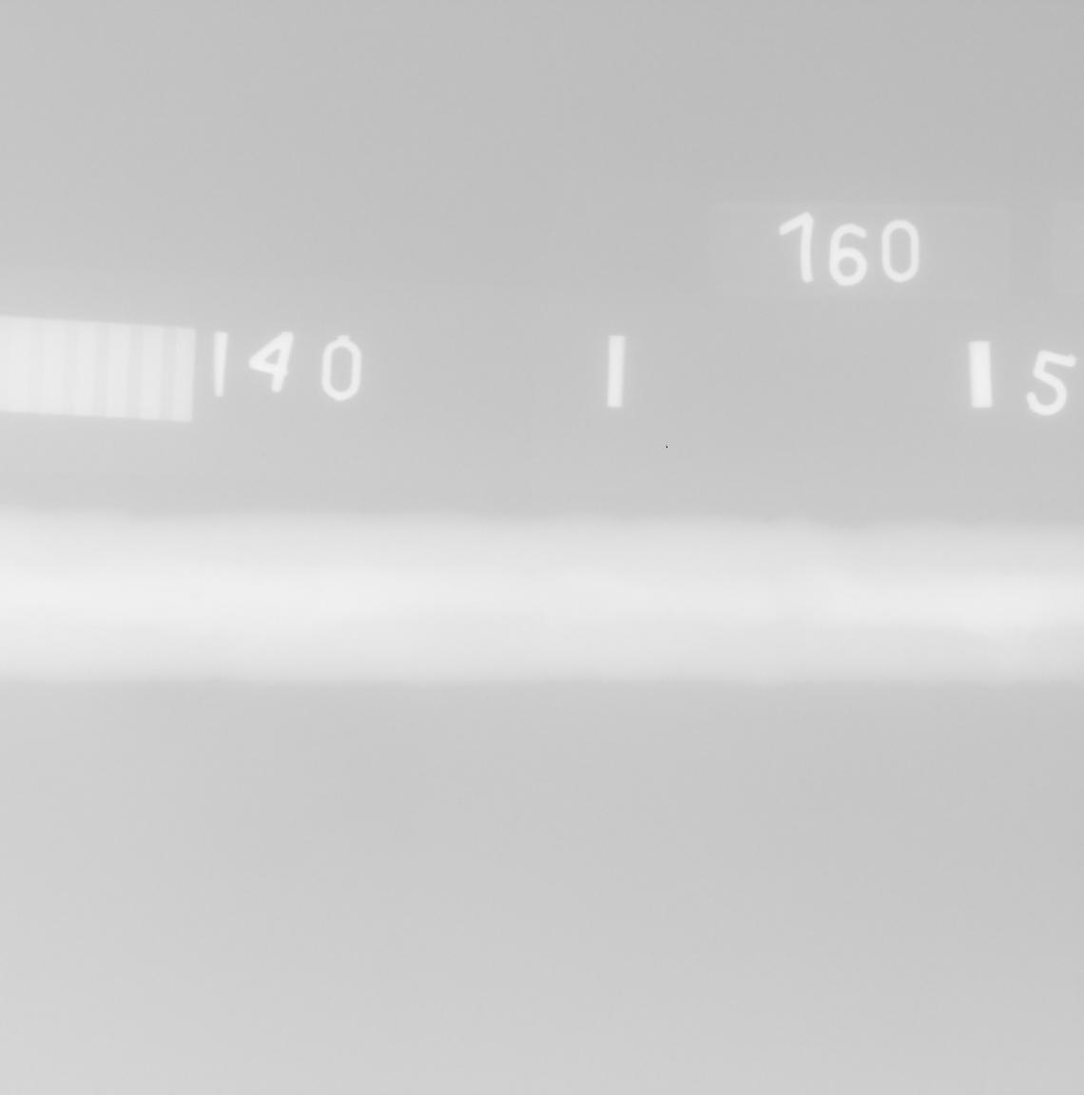Inclusion: (188, 592, 202, 599)
